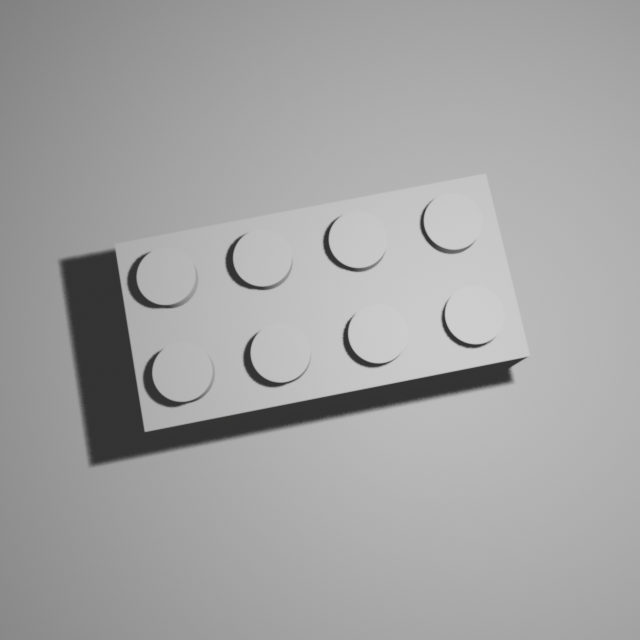lego_2x4: (110, 167, 535, 438)
